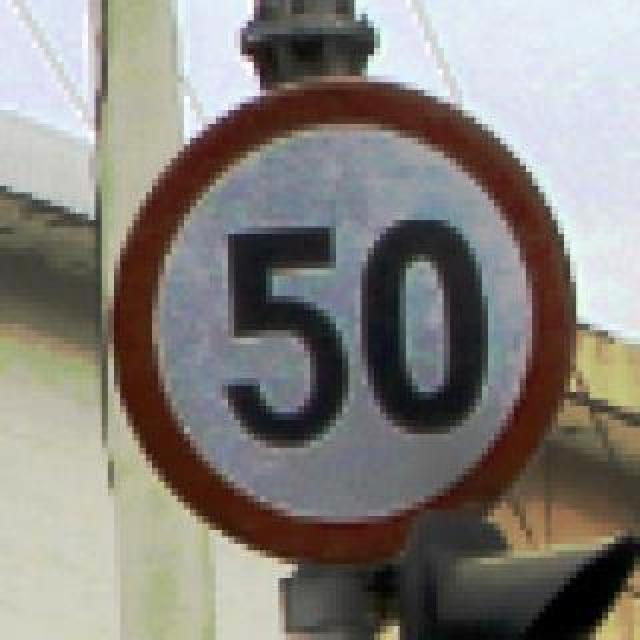50 kph: (108, 68, 570, 564)
